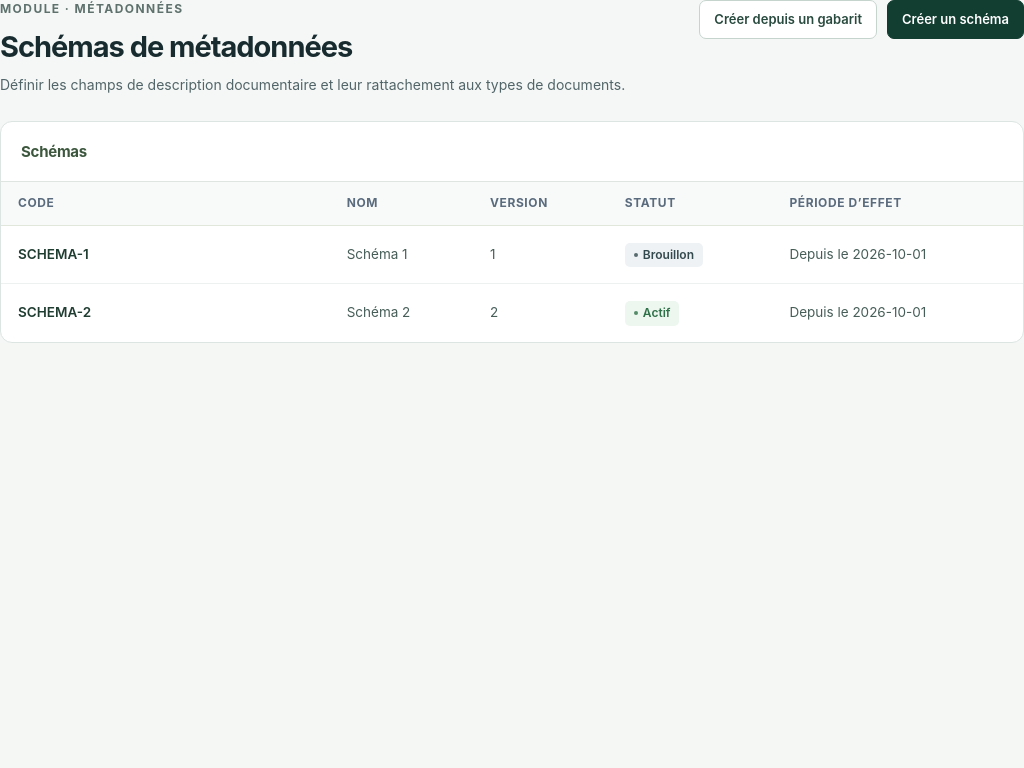
Test: sans institution dans le périmètre, le schéma est national ; un refus du serveur reste dans la fenêtre avec la saisie
The width and height of the screenshot is (1024, 768).
Click the button "Créer un schéma".
click(956, 20)  # box top-left (887, 0), bottom-right (1023, 39)
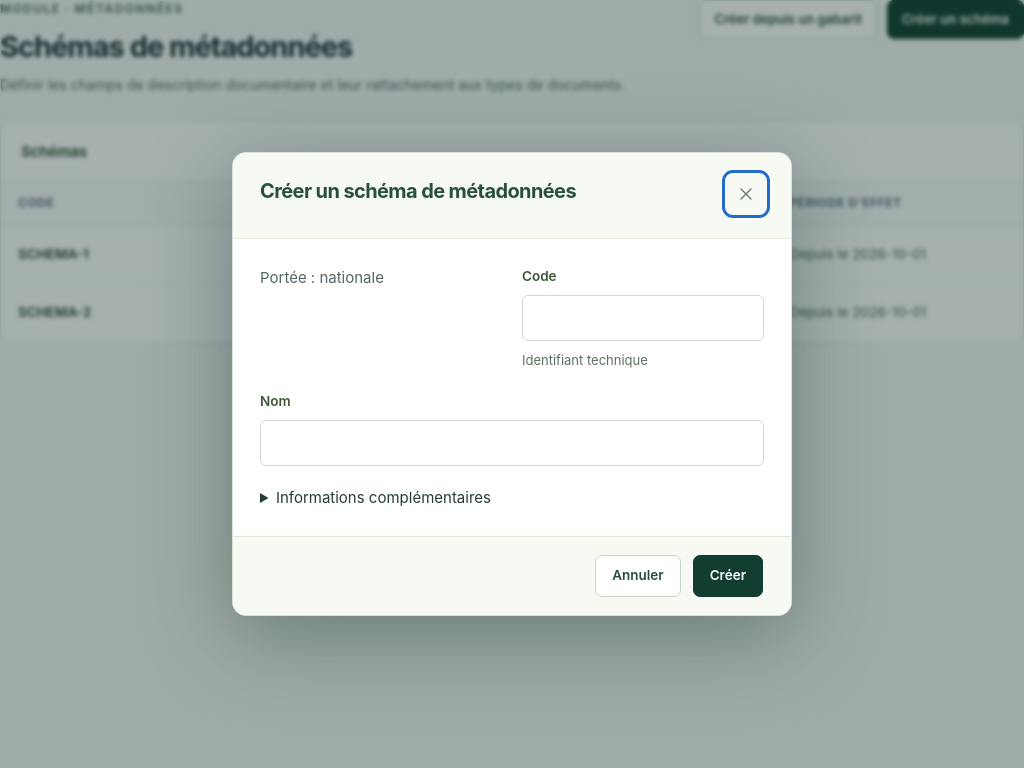
Expected: the text "Portée : nationale" is shown, top-left (260, 268), bottom-right (384, 287)
Type "DC" into the field labelled "Code Identifiant technique".
click(643, 318); type("DC")  # box top-left (522, 295), bottom-right (764, 341)
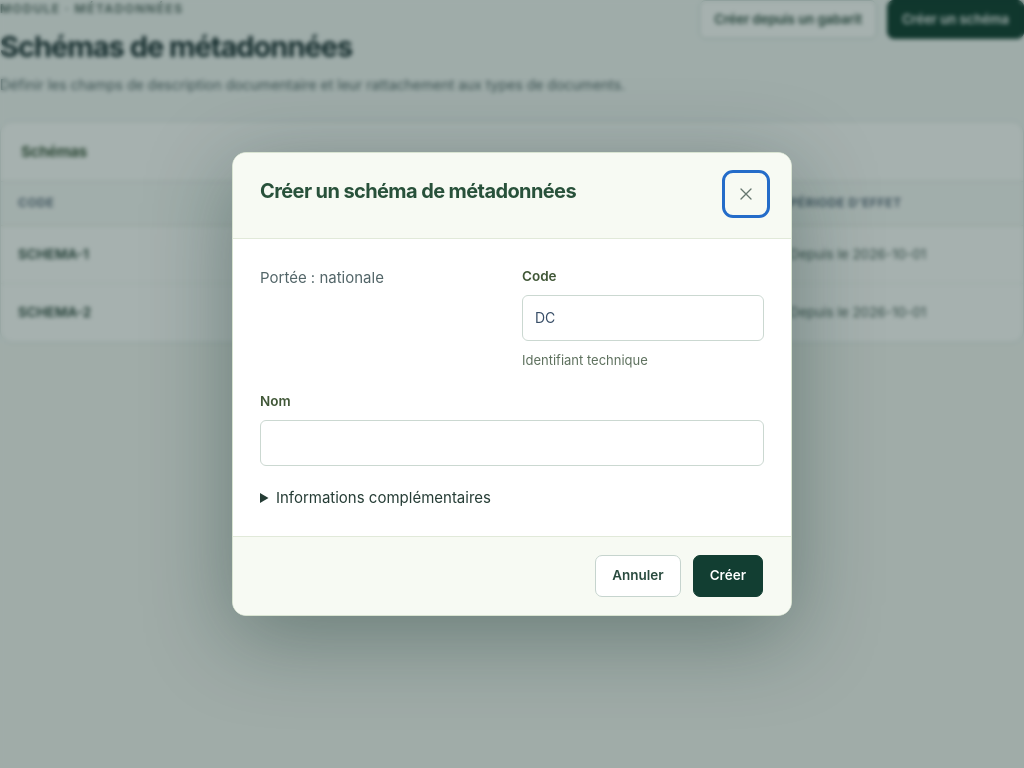
Type "Dublin Core" into the field labelled "Nom".
click(512, 443); type("Dublin Core")  # box top-left (260, 420), bottom-right (764, 466)
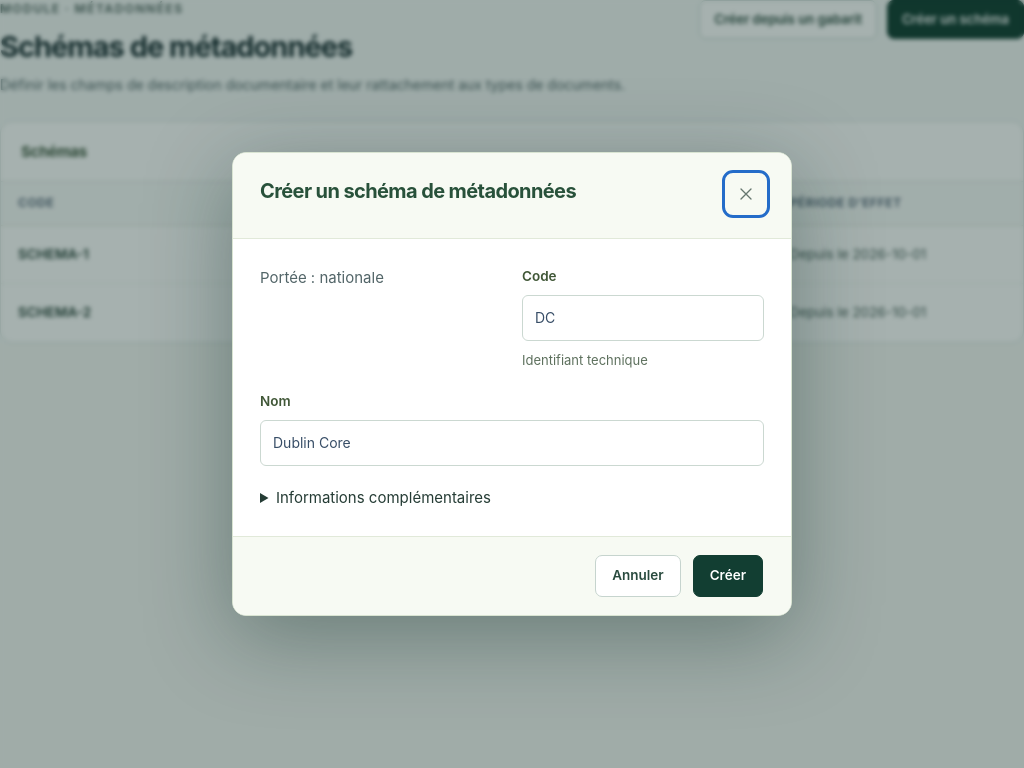
Click the button "Créer".
click(728, 576)  # box top-left (693, 555), bottom-right (763, 597)
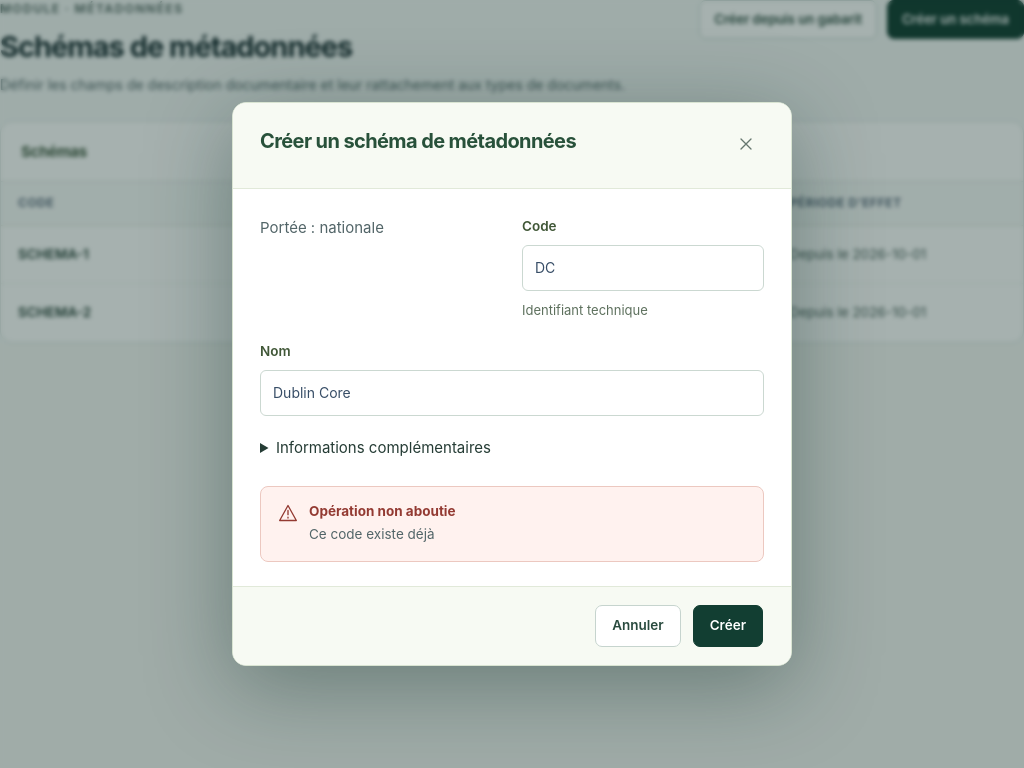
Expected: the text "Ce code existe déjà" is shown, top-left (309, 522), bottom-right (456, 547)
